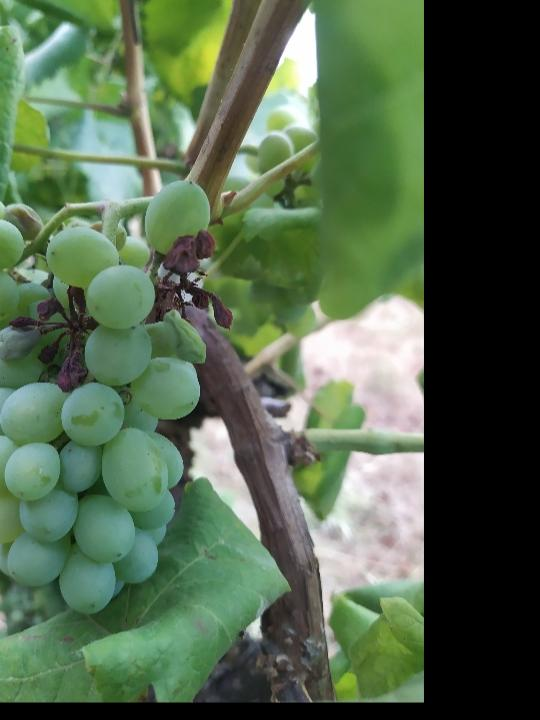grape: (0, 177, 237, 617)
